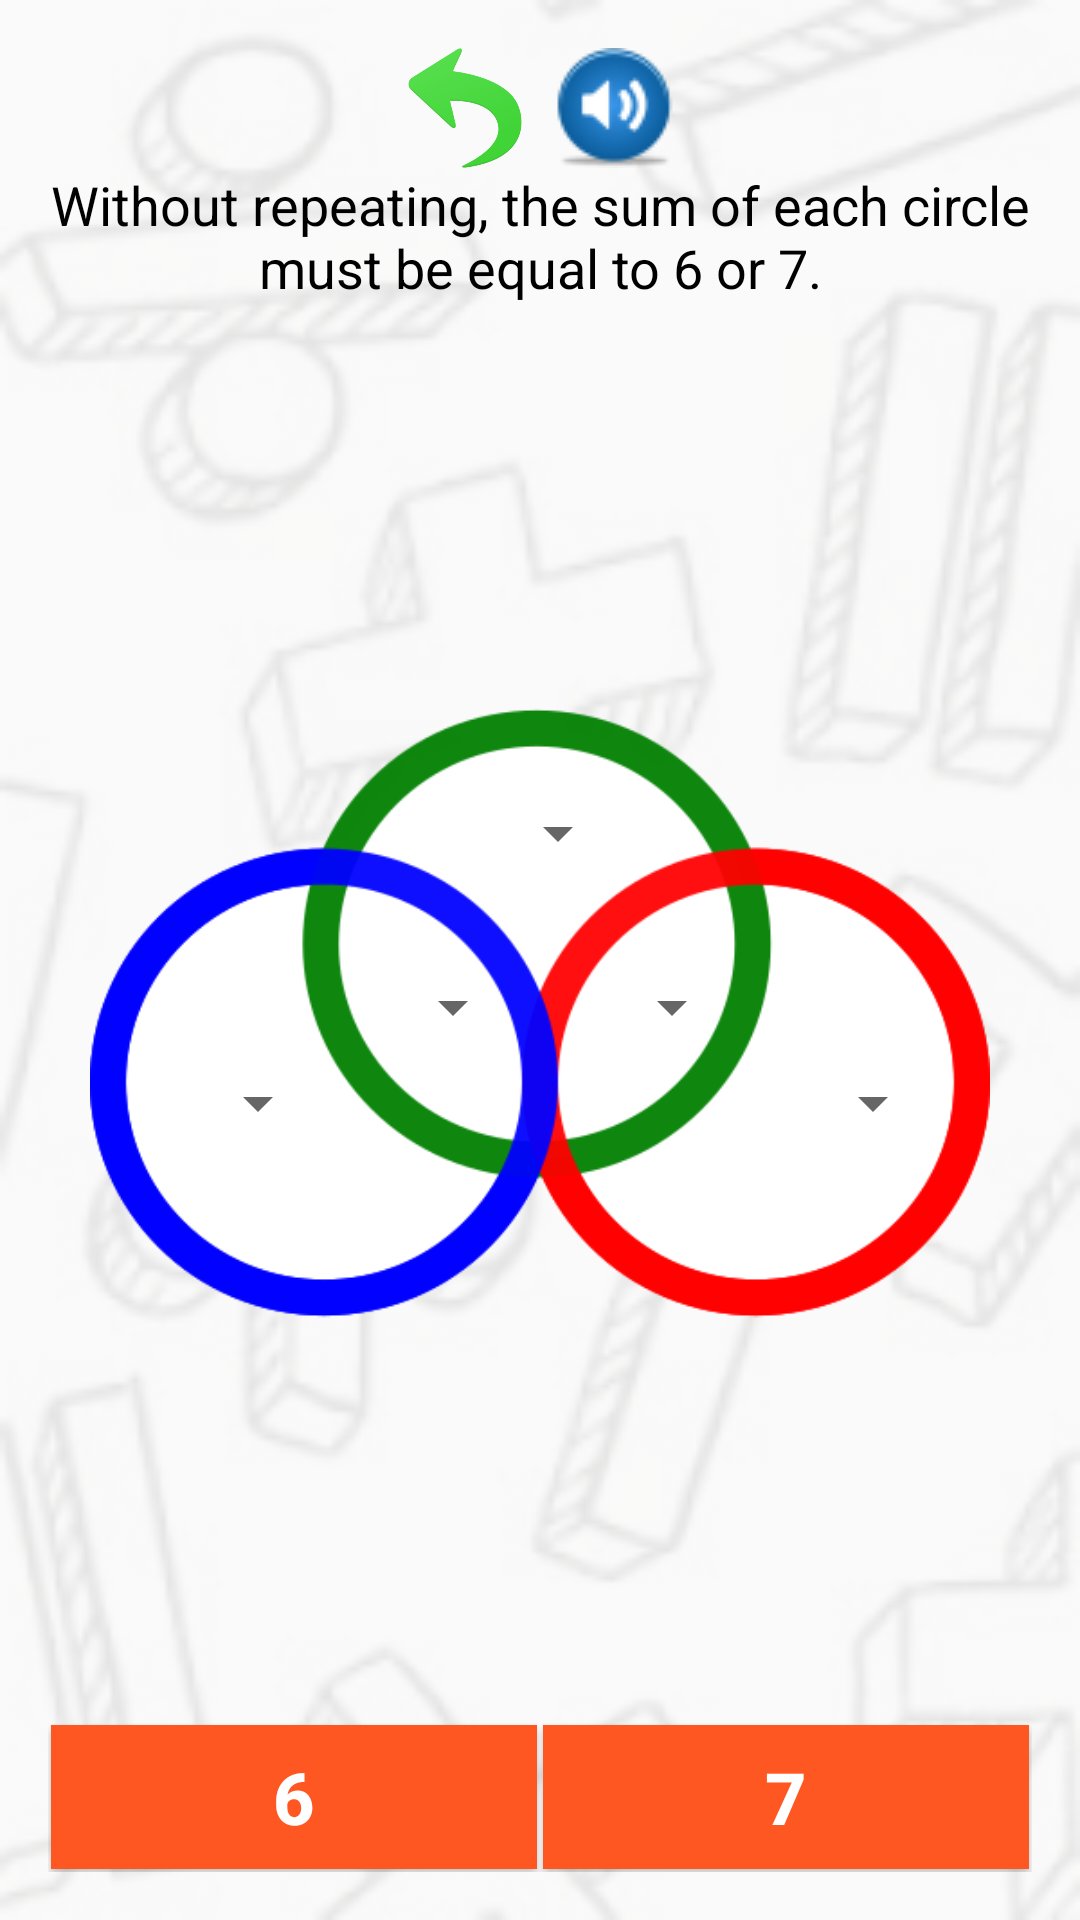

Named icons in this screenshot (1080w x 1920h) and their centers, (x,y):
som: (614,107)
voltar: (465,108)
